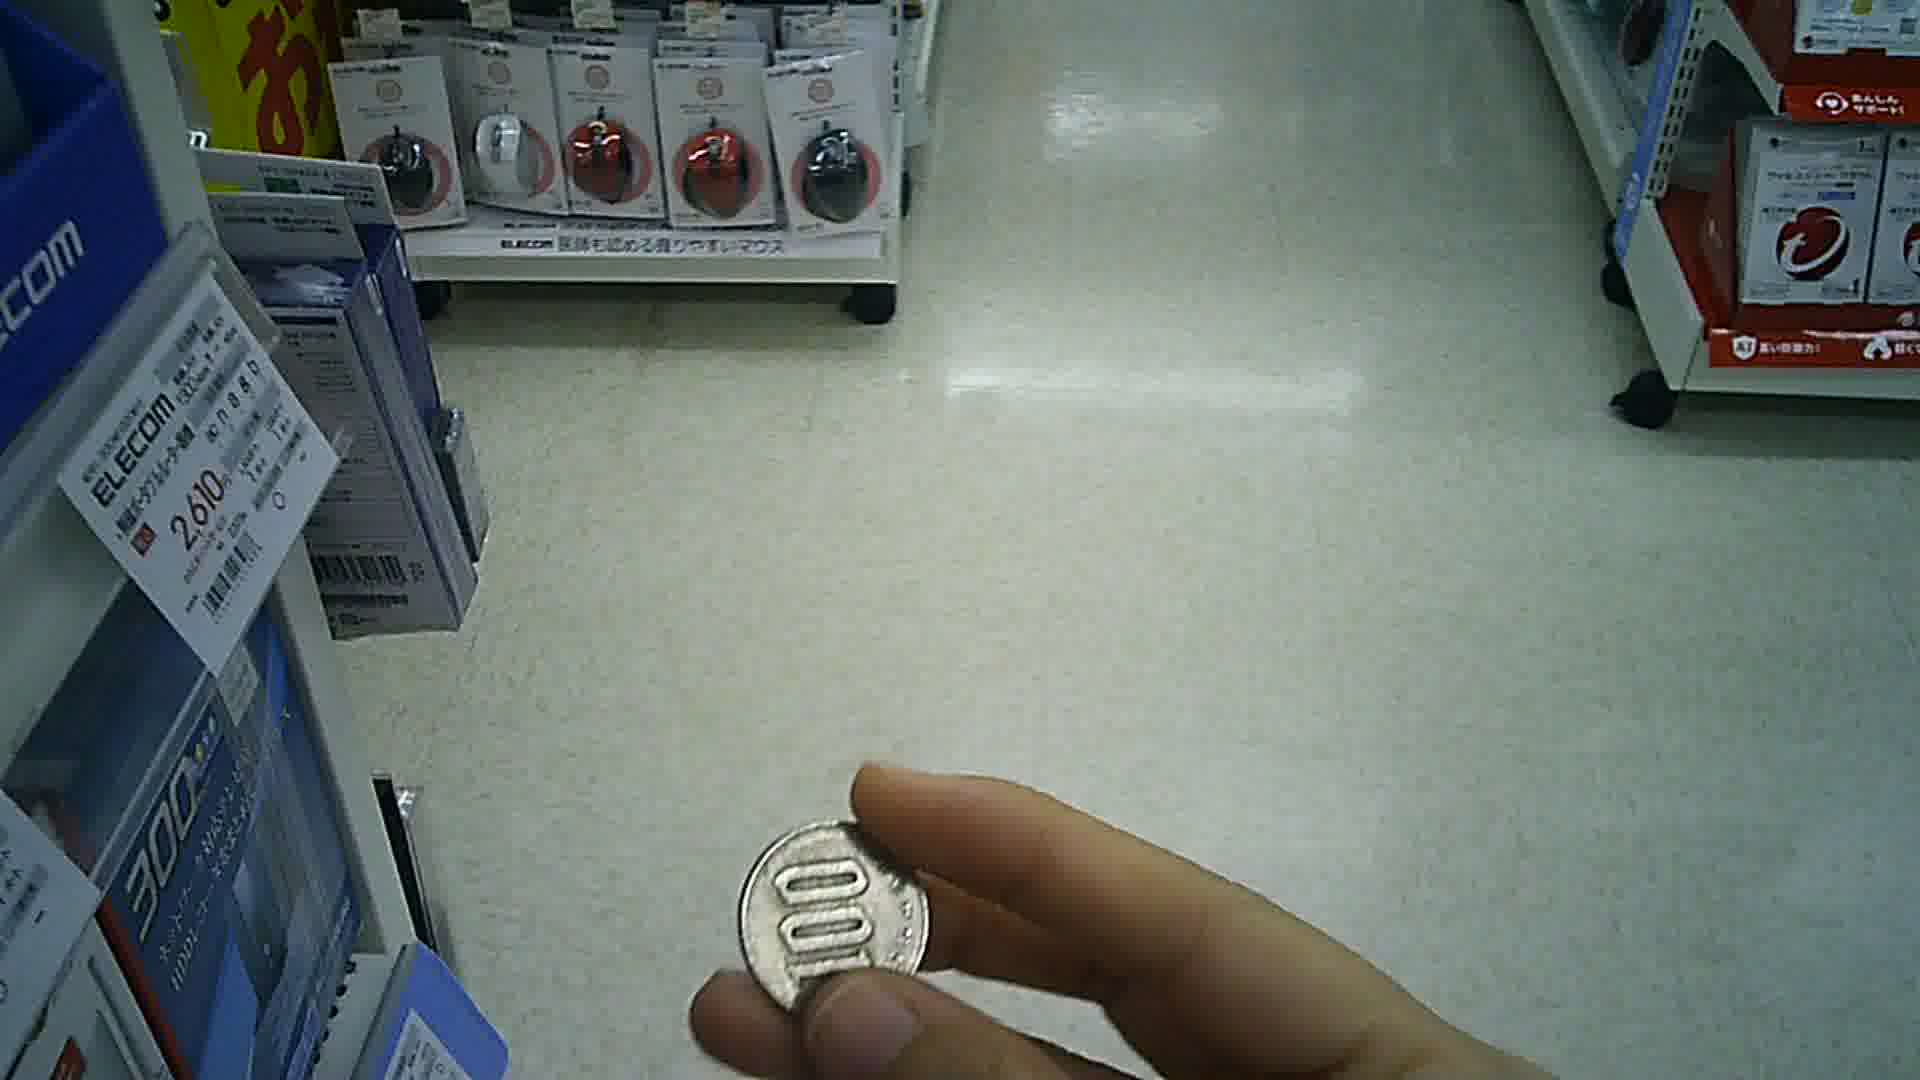100 Yen: (727, 816, 942, 1002)
